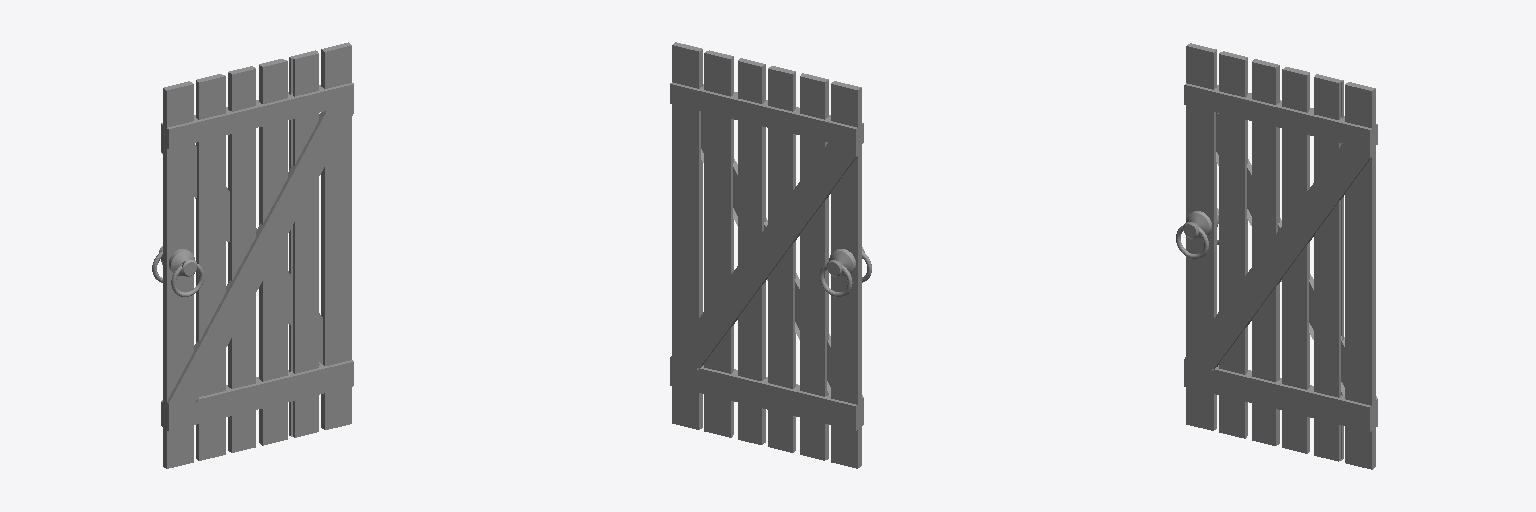
Rendered from Wooden_door.obj.
3 views of the same model, side by side, from view 1: azimuth 30°, elevation 25°; view 2: azimuth 150°, elevation 25°; view 3: azimuth 330°, elevation 25° (orthographic).
Parts seen in each view (by area): view 1: Cube_3; view 2: Cube_3; view 3: Cube_3.
Boxes of the visible parts, x1=… form: Cube_3: x1=152, y1=42, x2=353, y2=468; Cube_3: x1=670, y1=42, x2=871, y2=468; Cube_3: x1=1176, y1=43, x2=1377, y2=469.
Size of the model in its own units: 1.01 by 1.93 by 0.2263.